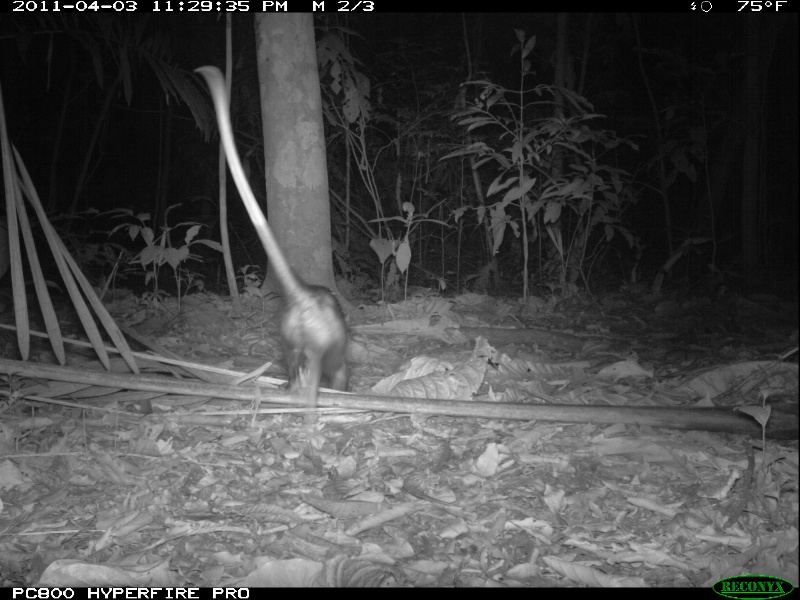opossum: (195, 62, 351, 408)
